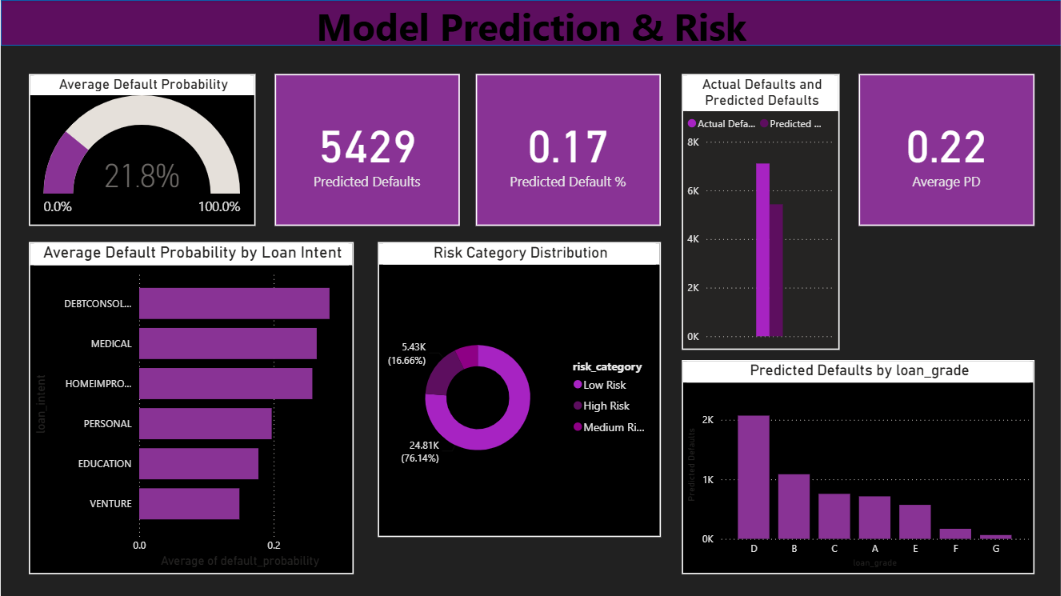

This screenshot's page, from the dashboard's own definition file:
{"tool":"powerbi","page":{"name":"Page 5","canvas":[1280,720],"ordinal":3},"visuals":[{"type":"card","fields":{"Values":["credit_risk_dashboard.Predicted Defaults"]},"box":[330.6,89.3,223.2,183.4],"z":0},{"type":"card","fields":{"Values":["credit_risk_dashboard.Average PD"]},"box":[1035.1,89.3,212.3,183.4],"z":1000},{"type":"clusteredColumnChart","fields":{"Y":["credit_risk_dashboard.Actual Defaults","credit_risk_dashboard.Predicted Defaults"]},"box":[821.6,89.3,190.6,333],"z":2000},{"type":"card","fields":{"Values":["credit_risk_dashboard.Predicted Default %"]},"box":[573.1,89.3,223.2,183.4],"z":3000},{"type":"clusteredColumnChart","fields":{"Category":["credit_risk_dashboard.loan_grade"],"Y":["credit_risk_dashboard.Predicted Defaults"]},"box":[821.6,434.3,425.9,258.2],"z":4000},{"type":"clusteredBarChart","title":"Average Default Probability by Loan Intent","fields":{"Category":["credit_risk_dashboard.loan_intent"],"Y":["Avg(credit_risk_dashboard.default_probability)"]},"box":[33.8,292,392.1,400.5],"z":5000},{"type":"donutChart","title":"Risk Category Distribution","fields":{"Category":["credit_risk_dashboard.risk_category"],"Y":["CountNonNull(credit_risk_dashboard.risk_category)"]},"box":[454.8,292,341.4,355.9],"z":6000},{"type":"gauge","fields":{"Y":["credit_risk_dashboard.Average Default Probability"]},"box":[33.8,89.3,273.9,183.4],"z":7000},{"type":"shape","box":[0,0,1280.3,55],"z":8000}]}

Visuals, with their boxes in screenshot pixels (x1, y1, x2, y2), scaled from the page's 1280x720 canvas onto the 1061x596 screenshot:
card - credit_risk_dashboard.Predicted Defaults: left=274, top=74, right=459, bottom=226
card - credit_risk_dashboard.Average PD: left=858, top=74, right=1034, bottom=226
clusteredColumnChart - credit_risk_dashboard.Actual Defaults x credit_risk_dashboard.Predicted Defaults: left=681, top=74, right=839, bottom=350
card - credit_risk_dashboard.Predicted Default %: left=475, top=74, right=660, bottom=226
clusteredColumnChart - credit_risk_dashboard.loan_grade x credit_risk_dashboard.Predicted Defaults: left=681, top=360, right=1034, bottom=573
"Average Default Probability by Loan Intent" clusteredBarChart: left=28, top=242, right=353, bottom=573
"Risk Category Distribution" donutChart: left=377, top=242, right=660, bottom=536
gauge - credit_risk_dashboard.Average Default Probability: left=28, top=74, right=255, bottom=226
shape: left=0, top=0, right=1060, bottom=46
